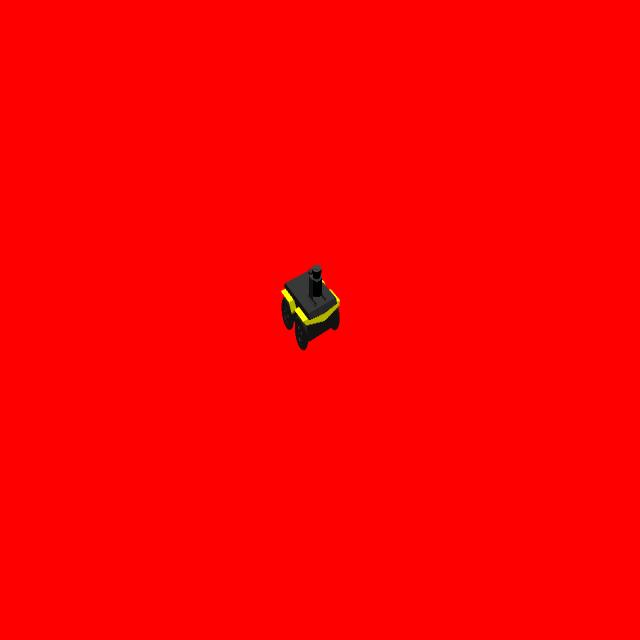jackal: (280, 260, 341, 353)
